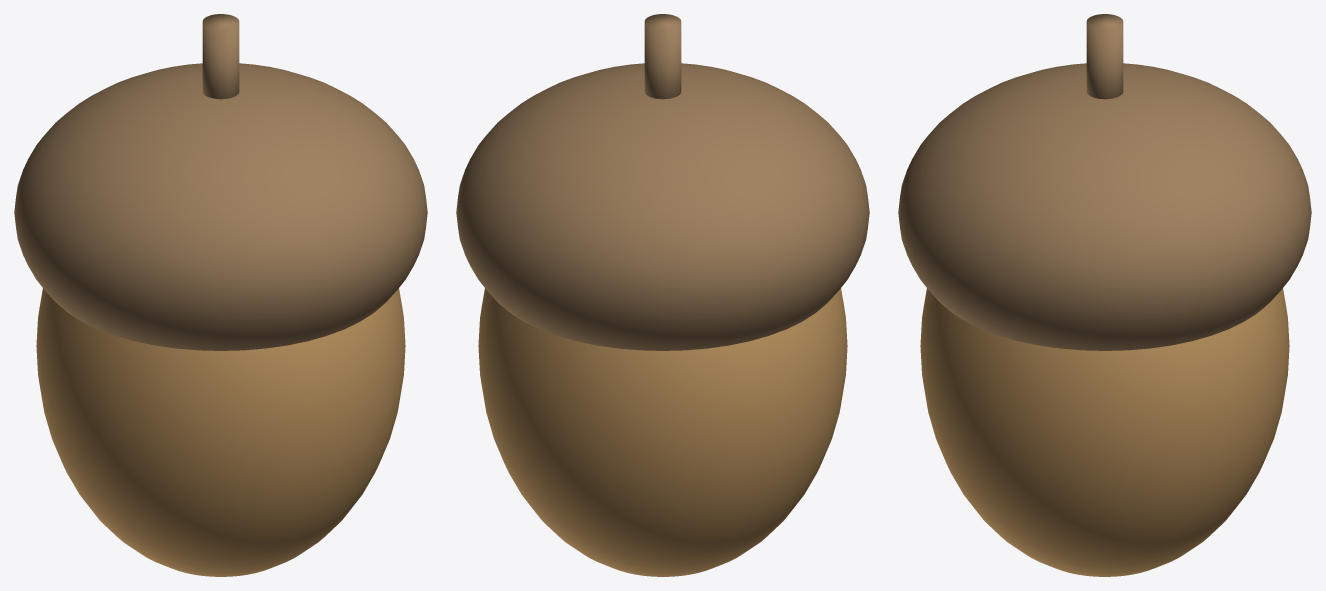
File: acorn.glb
3 renders of one model, left to right at view 1: azimuth 30°, elevation 25°; view 2: azimuth 150°, elevation 25°; view 3: azimuth 270°, elevation 25°, orthographic.
Visible parts, largest first — view 1: Sphere.001, Sphere, Cylinder; view 2: Sphere.001, Sphere, Cylinder; view 3: Sphere.001, Sphere, Cylinder.
Boxes of the visible parts, x1=… form: Sphere.001: x1=14, y1=63, x2=427, y2=350; Sphere: x1=36, y1=288, x2=405, y2=576; Cylinder: x1=202, y1=14, x2=239, y2=99; Sphere.001: x1=456, y1=63, x2=869, y2=350; Sphere: x1=478, y1=288, x2=847, y2=576; Cylinder: x1=644, y1=14, x2=681, y2=99; Sphere.001: x1=898, y1=63, x2=1311, y2=350; Sphere: x1=920, y1=288, x2=1289, y2=576; Cylinder: x1=1086, y1=14, x2=1123, y2=99.
Size of the model in its own units: 1.04 by 1.5 by 1.04.
